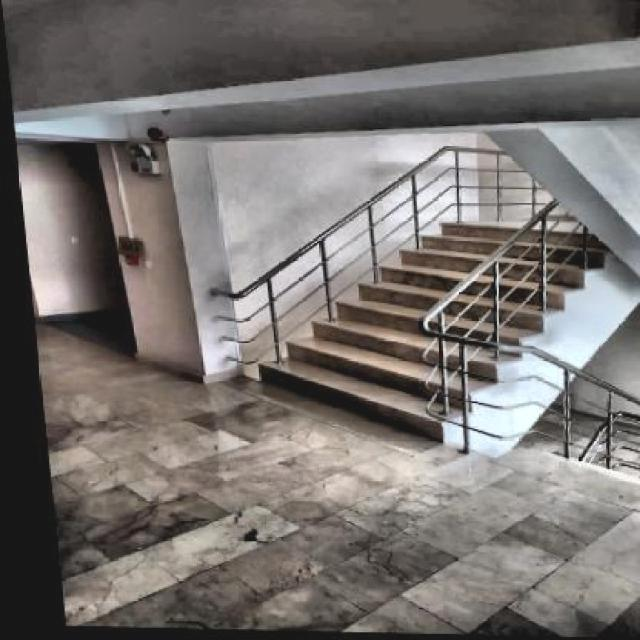stair: (227, 224, 618, 438)
